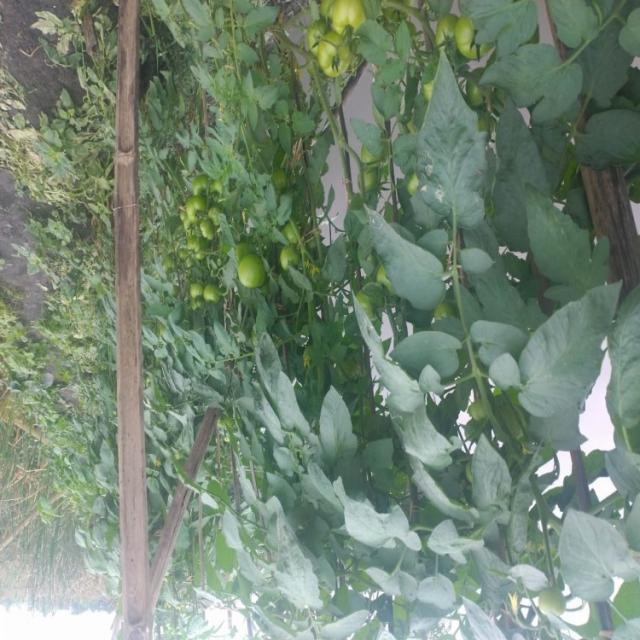tomato: (310, 29, 361, 80), (455, 19, 489, 63), (230, 254, 269, 292), (537, 585, 573, 623), (187, 280, 231, 311), (426, 14, 457, 57), (186, 186, 215, 227), (463, 74, 490, 107), (330, 1, 364, 27), (353, 164, 379, 192), (196, 213, 217, 241), (278, 242, 299, 266)
